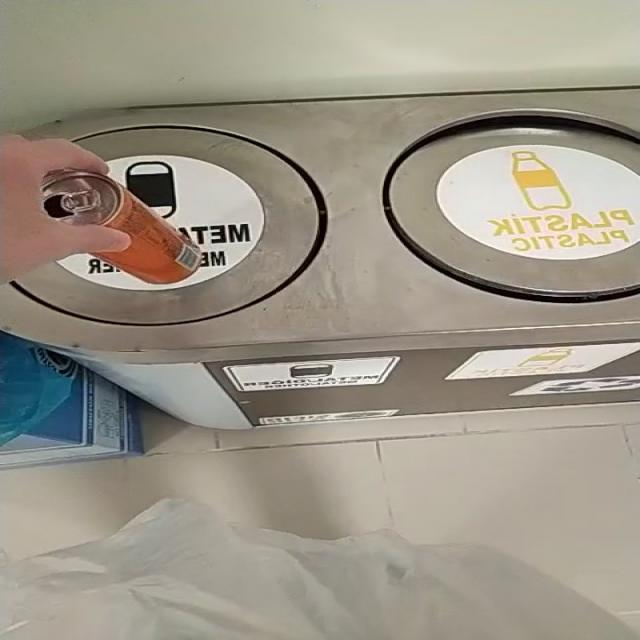Bin: (1, 88, 640, 431)
Metal: (40, 171, 200, 283)
